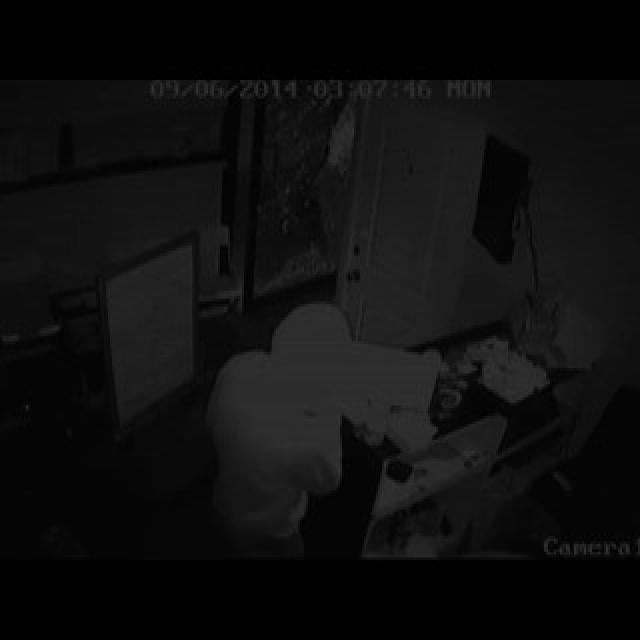thief: (210, 333, 348, 539)
